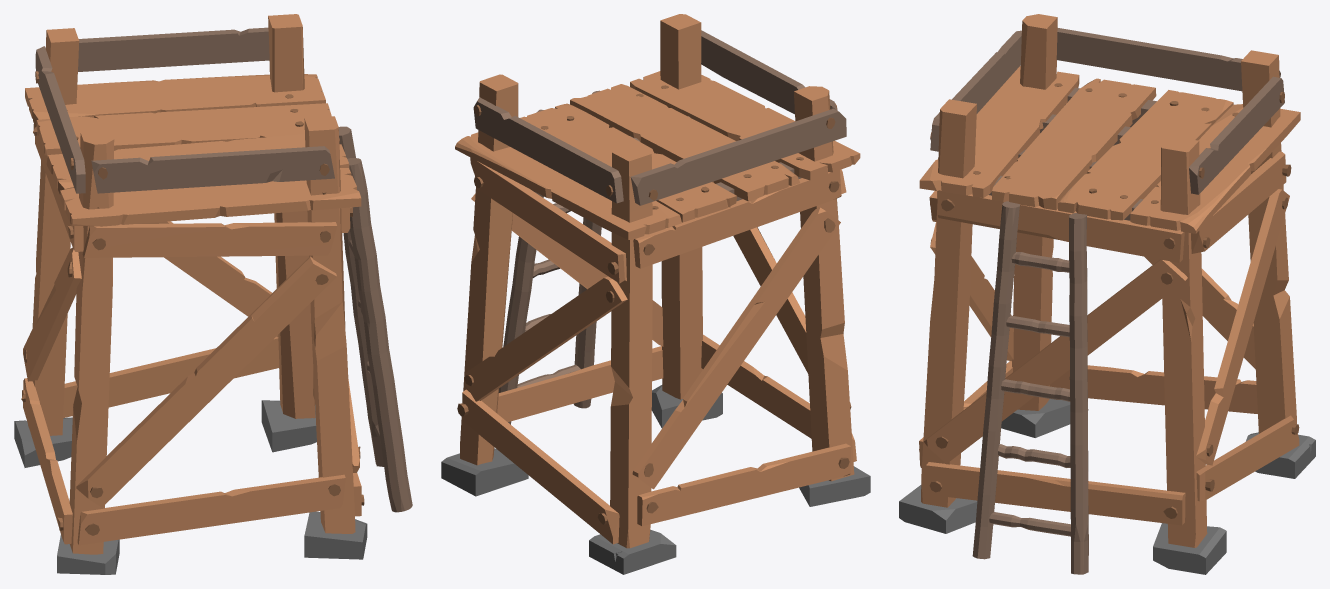
Rendered from stand_wood.fbx.
3 views of the same model, side by side, from view 1: azimuth 30°, elevation 25°; view 2: azimuth 150°, elevation 25°; view 3: azimuth 270°, elevation 25° (orthographic). The views are drawn at different scales.
Visible parts, largest first — view 1: stand wood; view 2: stand wood; view 3: stand wood.
Part boxes in pixels (x1,y1,x2,y2): stand wood: [14, 14, 412, 574]; stand wood: [441, 14, 870, 574]; stand wood: [899, 14, 1315, 574].
Bounding box in the file's own units: 4.6 × 5.01 × 4.63.
